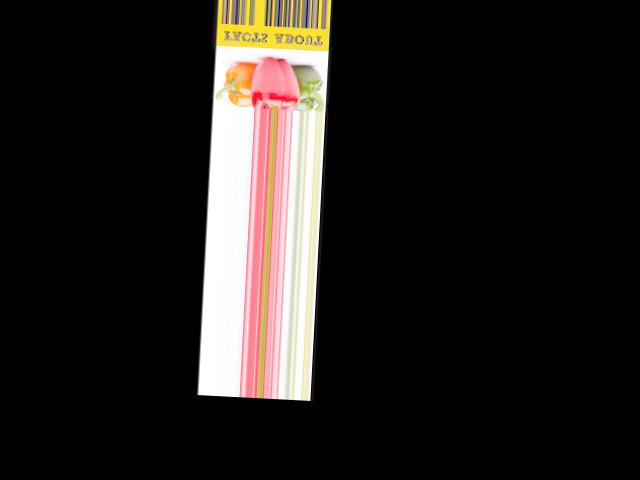bell_pepper: (295, 58, 326, 111)
